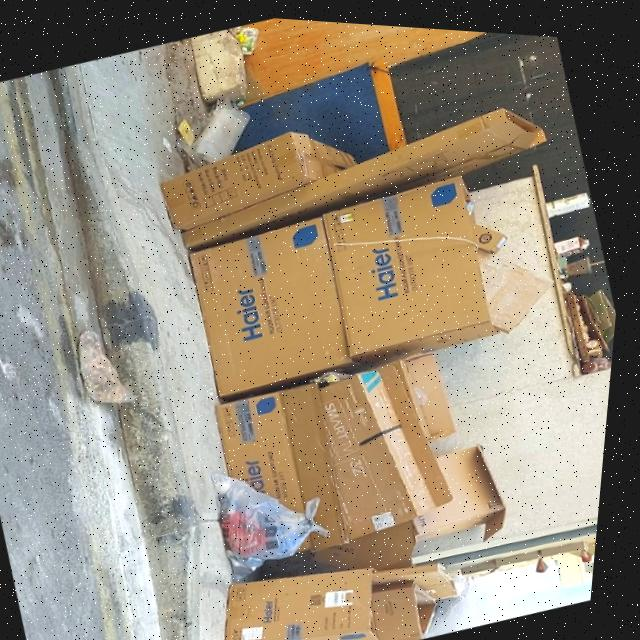Other: (168, 71, 566, 268), (313, 160, 520, 369), (174, 200, 378, 409), (311, 345, 478, 543), (212, 371, 373, 575), (154, 105, 374, 242), (245, 499, 436, 610), (215, 536, 413, 640), (403, 424, 529, 547), (477, 226, 572, 333), (390, 334, 473, 444), (375, 541, 474, 615), (184, 89, 270, 168), (380, 567, 463, 640), (564, 271, 624, 369), (540, 173, 599, 214), (552, 218, 606, 255), (563, 239, 613, 275), (476, 207, 516, 252), (169, 110, 206, 148), (231, 18, 267, 56), (565, 273, 582, 286)
Recycled Waste -Grey or Green Bag-: (208, 441, 356, 587)
